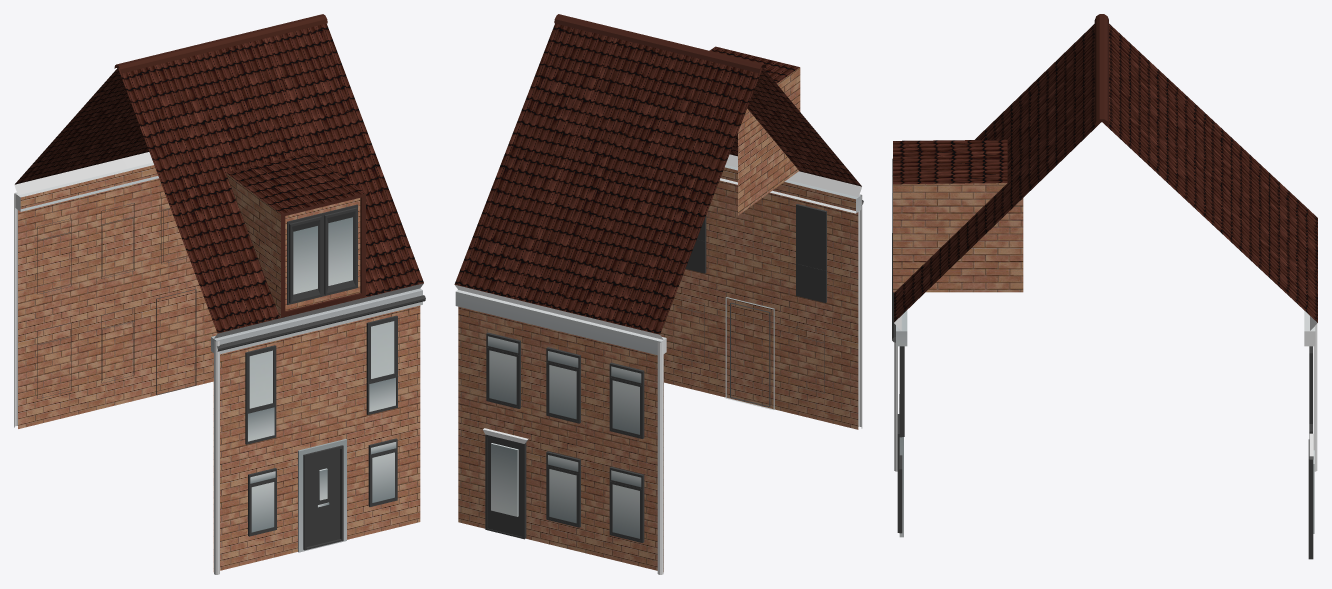
File: It_Tek_18.fbx
The picture shows the model from 3 angles, left to right: view 1: azimuth 30°, elevation 25°; view 2: azimuth 150°, elevation 25°; view 3: azimuth 270°, elevation 25°; orthographic projection. The views are drawn at different scales.
Visible parts, largest first — view 1: It_Tek_18; view 2: It_Tek_18; view 3: It_Tek_18.
Boxes of the visible parts, <box> form: It_Tek_18: <box>14,14,425,574</box>; It_Tek_18: <box>454,14,863,574</box>; It_Tek_18: <box>892,14,1317,559</box>.
Size of the model in its own units: 554 by 1107 by 937.
